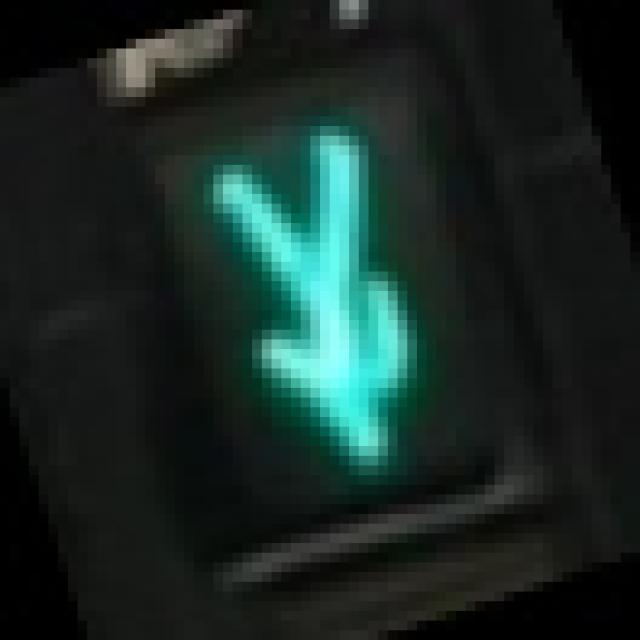geen-crossing: (107, 58, 504, 553)
